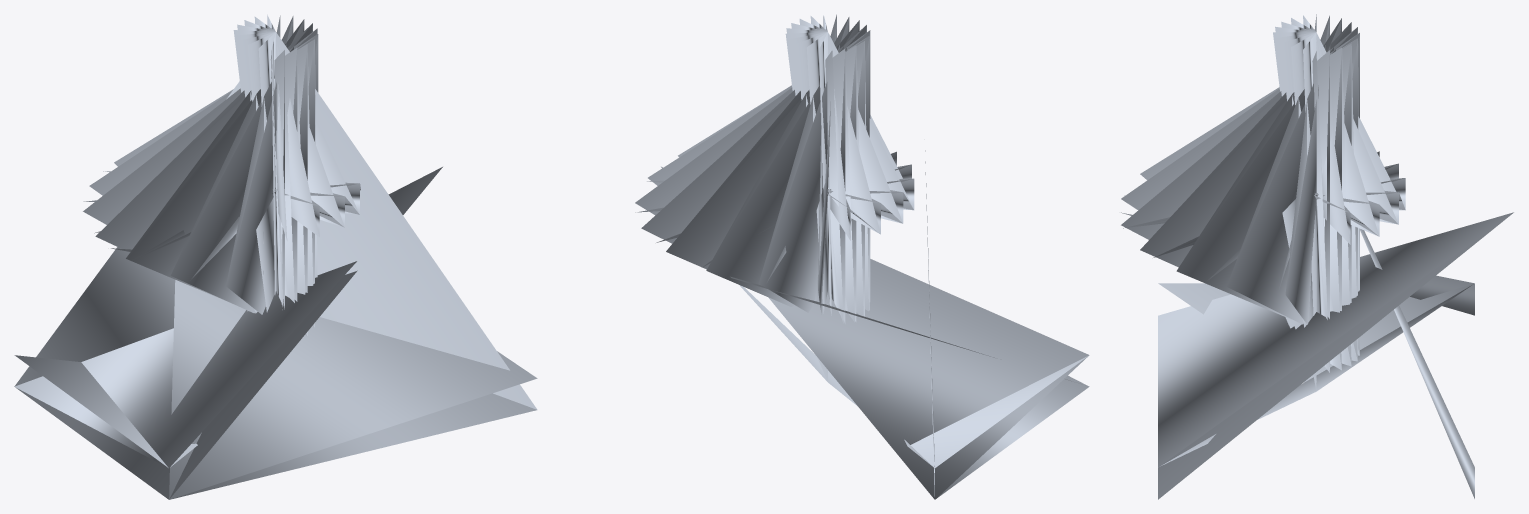
The model's file is torsion_testing.glb.
3 renders of one model, left to right at view 1: azimuth 30°, elevation 25°; view 2: azimuth 150°, elevation 25°; view 3: azimuth 270°, elevation 25°, orthographic. The views are drawn at different scales.
Visible parts, largest first — view 1: tool; view 2: tool; view 3: tool.
Part boxes in pixels (left/top/right/bottom): tool: left=14, top=14, right=537, bottom=499; tool: left=635, top=14, right=1089, bottom=499; tool: left=1121, top=14, right=1513, bottom=499.
Bounding box in the file's own units: 2.2 × 2.09 × 2.
